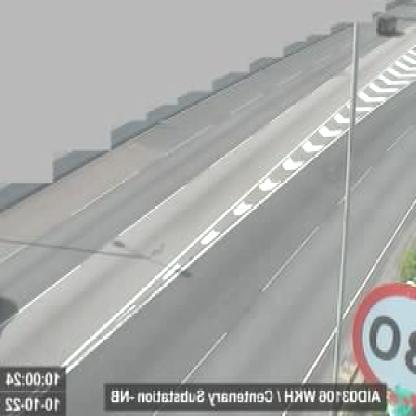Truck: (378, 14, 396, 35)
